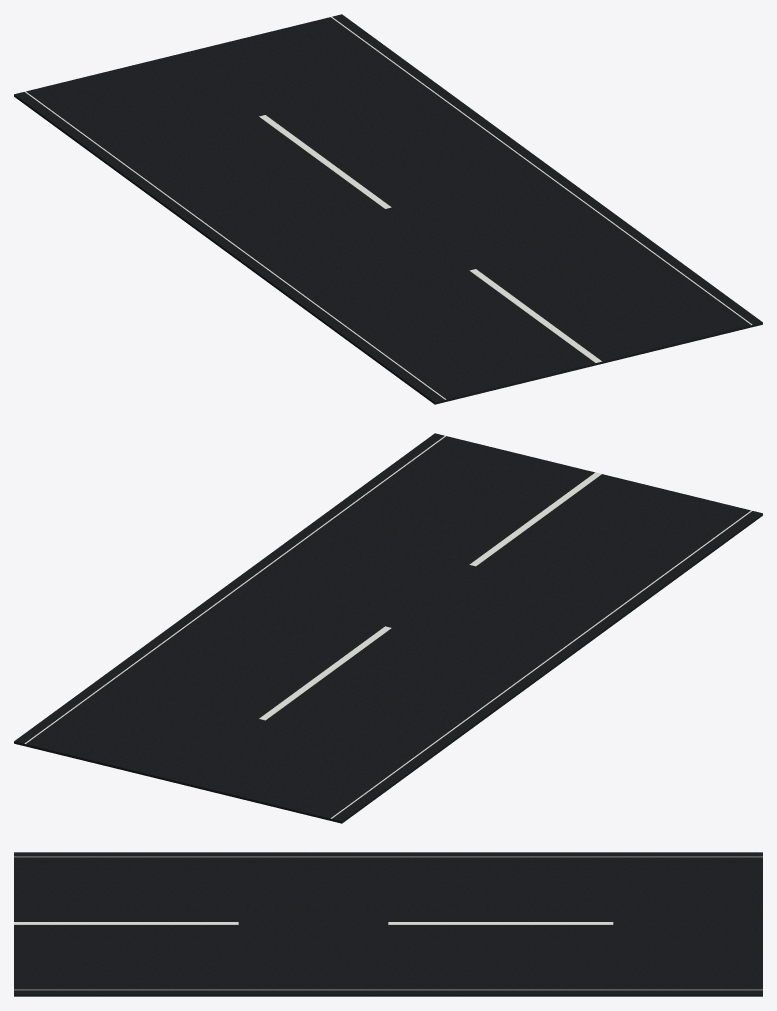
Rendered from Runway_Straight_45x100_LOD2.glb.
3 renders of one model, top to bottom at view 1: azimuth 30°, elevation 25°; view 2: azimuth 150°, elevation 25°; view 3: azimuth 270°, elevation 25°, orthographic. The views are drawn at different scales.
Parts seen in each view (by area): view 1: Runway_Straight_45x100_export; view 2: Runway_Straight_45x100_export; view 3: Runway_Straight_45x100_export.
Part boxes in pixels (x1=…): Runway_Straight_45x100_export: x1=14, y1=14, x2=762, y2=404; Runway_Straight_45x100_export: x1=14, y1=433, x2=762, y2=823; Runway_Straight_45x100_export: x1=14, y1=852, x2=762, y2=996.
Bounding box in the file's own units: 45 × 0.33 × 100.
Materials: 2 (1 with a texture image).
